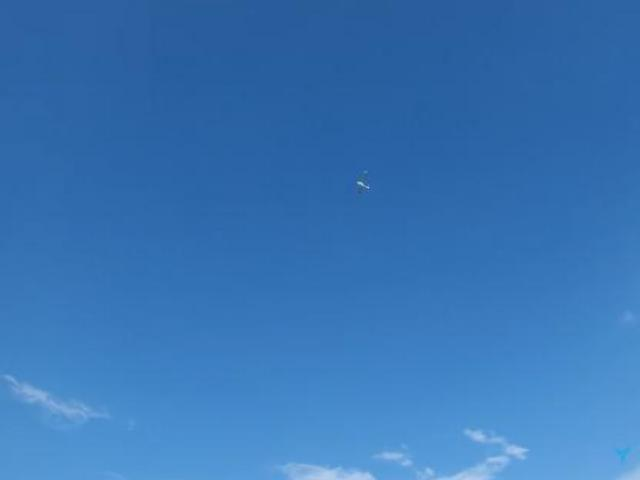uav: (352, 167, 376, 199)
